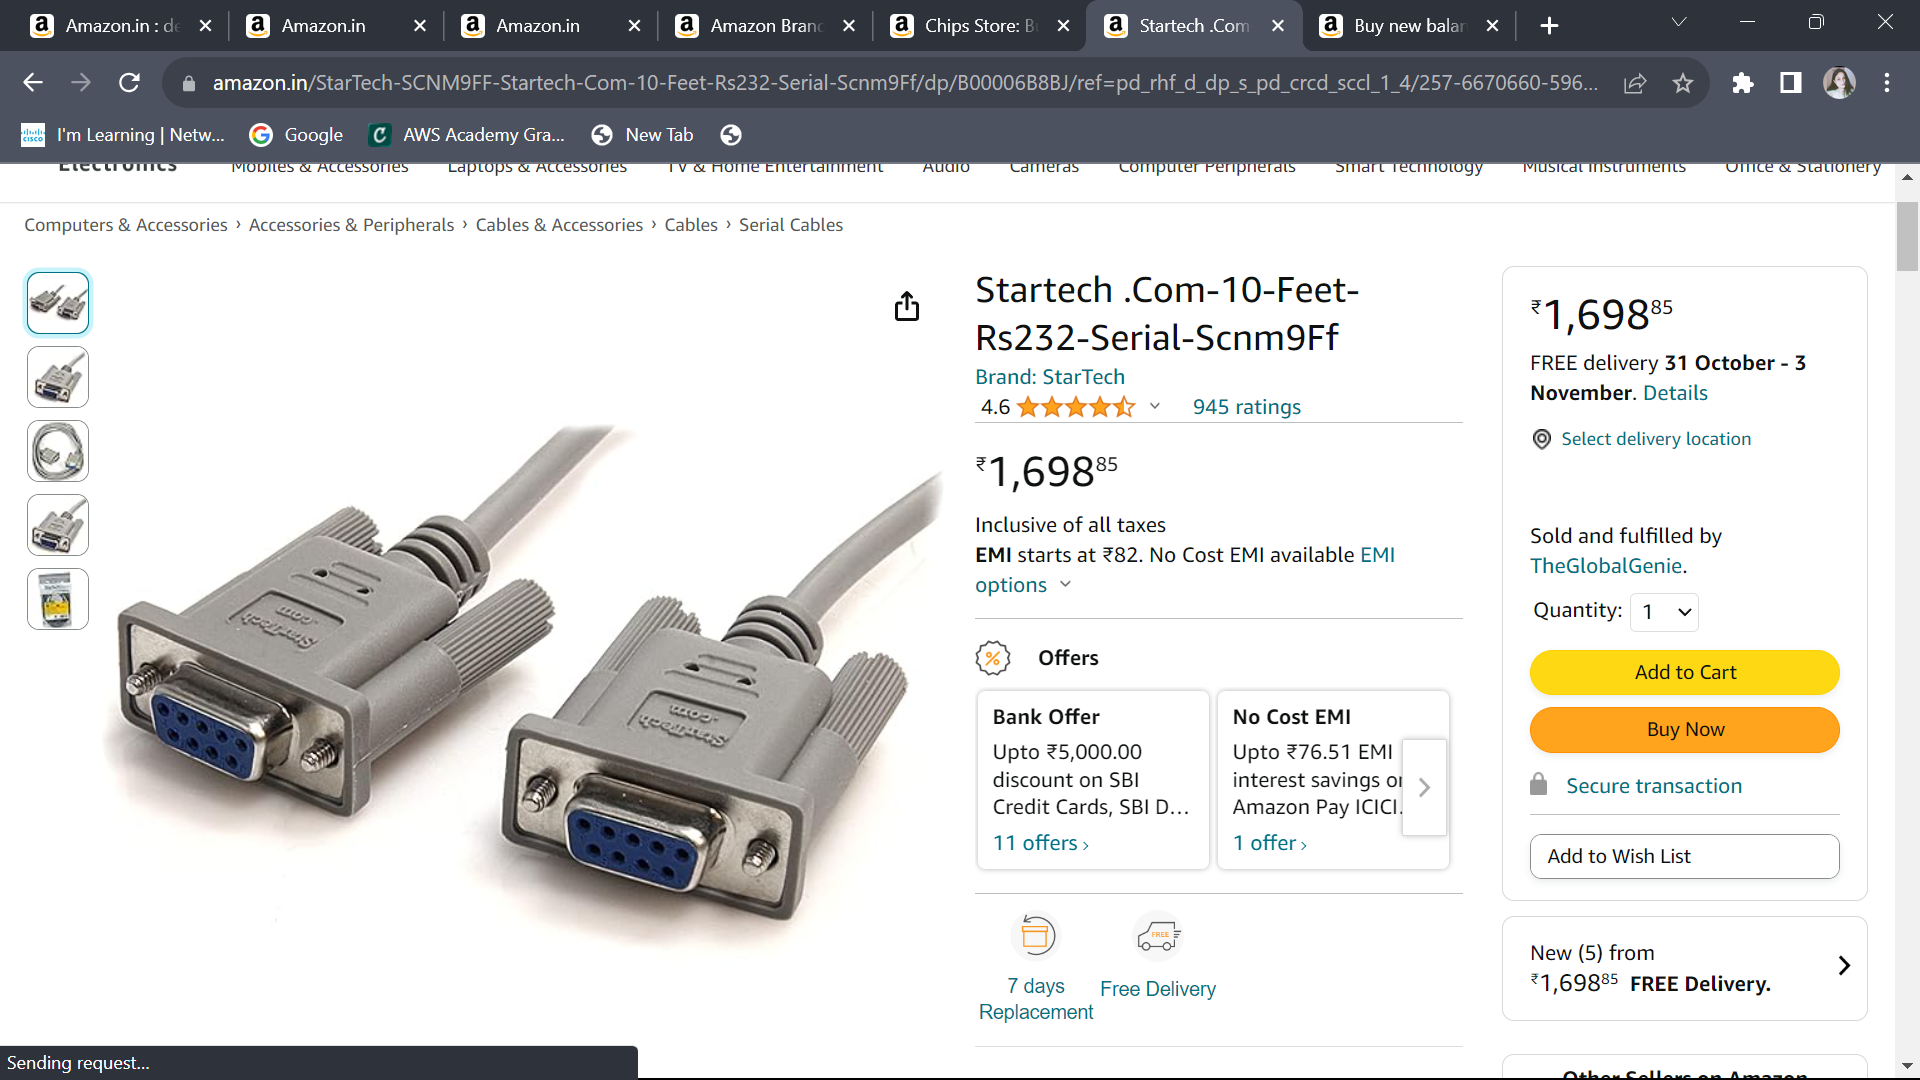Image: (116, 274, 916, 1027)
Paragraph: (949, 636, 1457, 919), (961, 444, 1445, 615), (968, 248, 1382, 373), (1523, 636, 1873, 761), (949, 373, 1362, 436), (1523, 421, 1797, 489), (1523, 352, 1851, 409), (1523, 520, 1743, 591), (1516, 286, 1750, 338), (1516, 603, 1714, 630), (1526, 773, 1780, 794)
